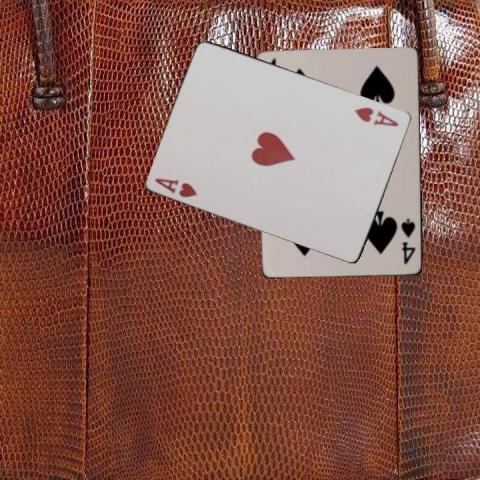4s: (398, 216, 417, 267)
Ah: (352, 103, 401, 128), (152, 174, 199, 198)
